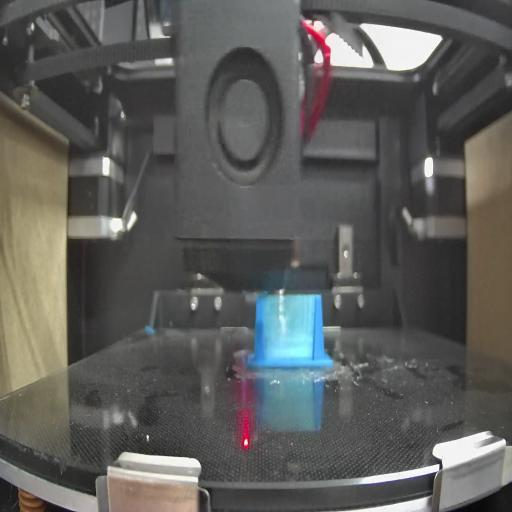stringing: (264, 296, 318, 364)
